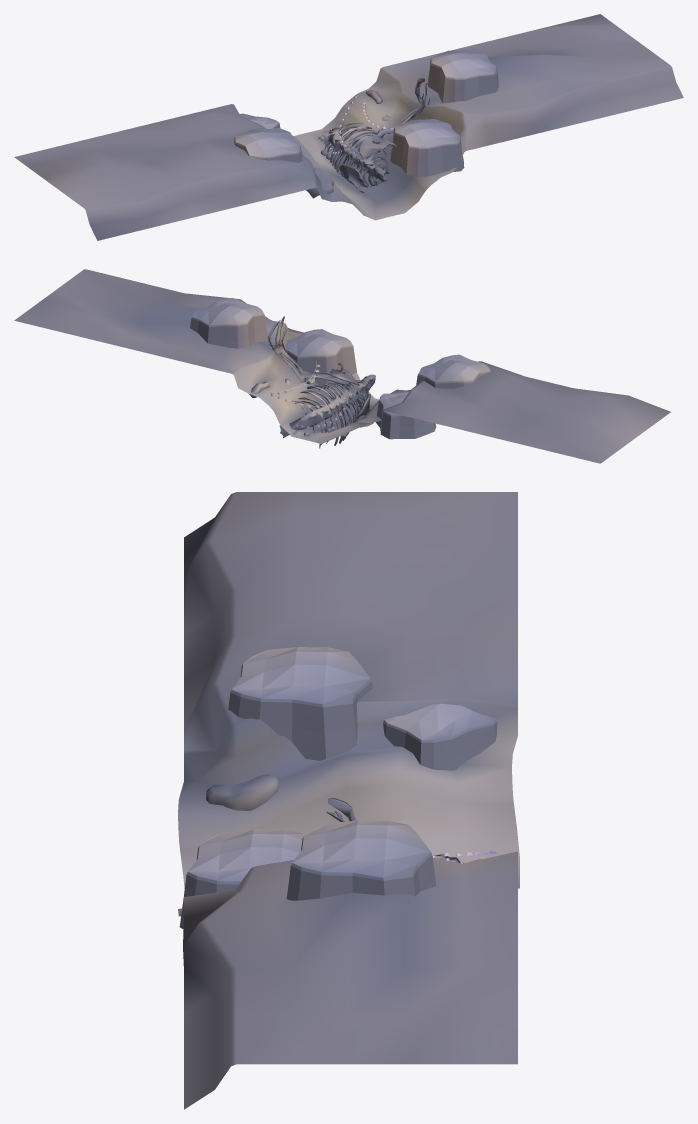
Rendered from Arctic_Luge_Straight_leftObstacle_C.glb.
3 views of the same model, one above another, from view 1: azimuth 30°, elevation 25°; view 2: azimuth 150°, elevation 25°; view 3: azimuth 270°, elevation 25° (orthographic). The views are drawn at different scales.
Parts seen in each view (by area): view 1: Arctic_Luge_Straight_leftObstacle_C, Arctic_Luge_SmallIceRock_prop, Arctic_Luge_SmallIceRock_prop (1), Arctic_Luge_SmallIceRock_prop (2); view 2: Arctic_Luge_Straight_leftObstacle_C, Arctic_Luge_SmallIceRock_prop (1), Arctic_Luge_SmallIceRock_prop, Arctic_Luge_SmallIceRock_prop (2), Arctic_Luge_SmallIceRock_prop (3); view 3: Arctic_Luge_Straight_leftObstacle_C, Arctic_Luge_SmallIceRock_prop (2), Arctic_Luge_SmallIceRock_prop (1), Arctic_Luge_SmallIceRock_prop (3), Arctic_Luge_SmallIceRock_prop.
Boxes of the visible parts, x1=… form: Arctic_Luge_Straight_leftObstacle_C: x1=14, y1=14, x2=683, y2=240; Arctic_Luge_SmallIceRock_prop: x1=390, y1=119, x2=464, y2=176; Arctic_Luge_SmallIceRock_prop (1): x1=428, y1=49, x2=498, y2=103; Arctic_Luge_SmallIceRock_prop (2): x1=234, y1=128, x2=302, y2=162; Arctic_Luge_Straight_leftObstacle_C: x1=14, y1=269, x2=671, y2=463; Arctic_Luge_SmallIceRock_prop (1): x1=190, y1=298, x2=267, y2=348; Arctic_Luge_SmallIceRock_prop: x1=284, y1=329, x2=356, y2=387; Arctic_Luge_SmallIceRock_prop (2): x1=416, y1=354, x2=490, y2=388; Arctic_Luge_SmallIceRock_prop (3): x1=375, y1=392, x2=436, y2=439; Arctic_Luge_Straight_leftObstacle_C: x1=178, y1=492, x2=519, y2=1109; Arctic_Luge_SmallIceRock_prop (2): x1=228, y1=647, x2=372, y2=760; Arctic_Luge_SmallIceRock_prop (1): x1=286, y1=820, x2=436, y2=900; Arctic_Luge_SmallIceRock_prop (3): x1=383, y1=703, x2=497, y2=770; Arctic_Luge_SmallIceRock_prop: x1=179, y1=829, x2=305, y2=929.
Size of what is drawn, in the model's own units: 25.98 by 4.43 by 6.56.
